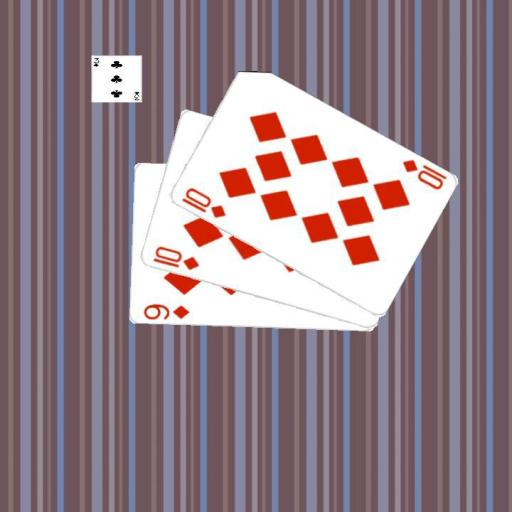10D: (178, 184, 227, 220), (398, 156, 448, 191), (150, 243, 201, 272)
9D: (140, 301, 191, 321)
